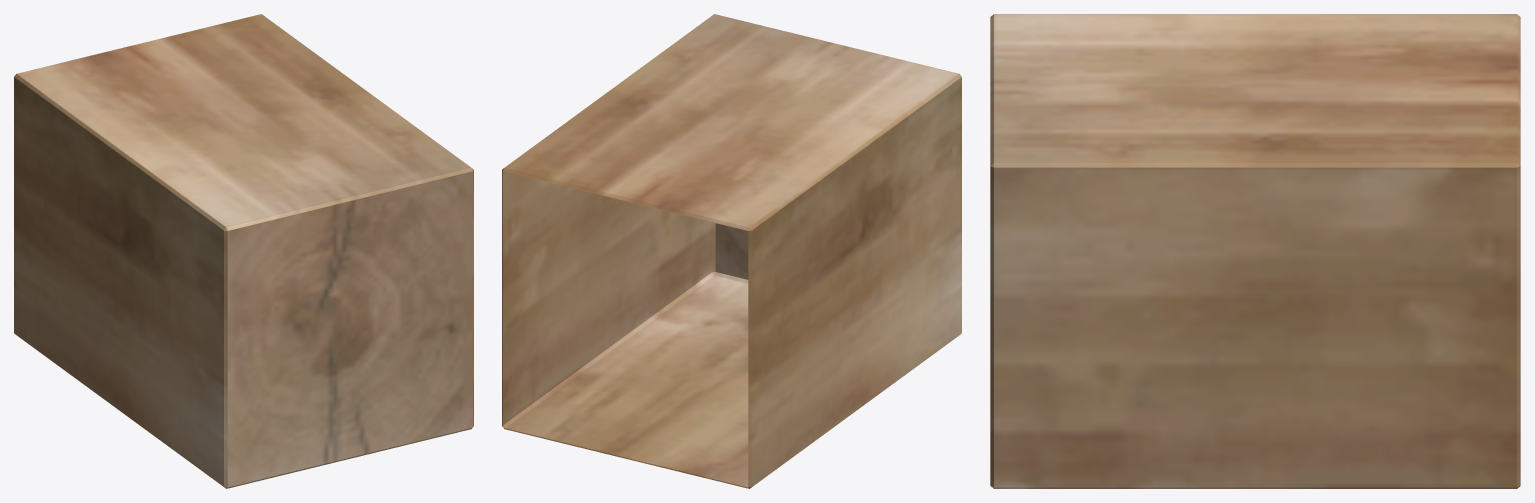
The model's file is Nightstand.obj.
3 renders of one model, left to right at view 1: azimuth 30°, elevation 25°; view 2: azimuth 150°, elevation 25°; view 3: azimuth 270°, elevation 25°, orthographic. The views are drawn at different scales.
Parts seen in each view (by area): view 1: Nightstand; view 2: Nightstand; view 3: Nightstand.
Part boxes in pixels (bbox=[...]): Nightstand: bbox=[14, 14, 473, 488]; Nightstand: bbox=[502, 14, 961, 488]; Nightstand: bbox=[990, 14, 1520, 488].
Size of the model in its own units: 0.312 by 0.312 by 0.46.
1 material, 1 textured.
